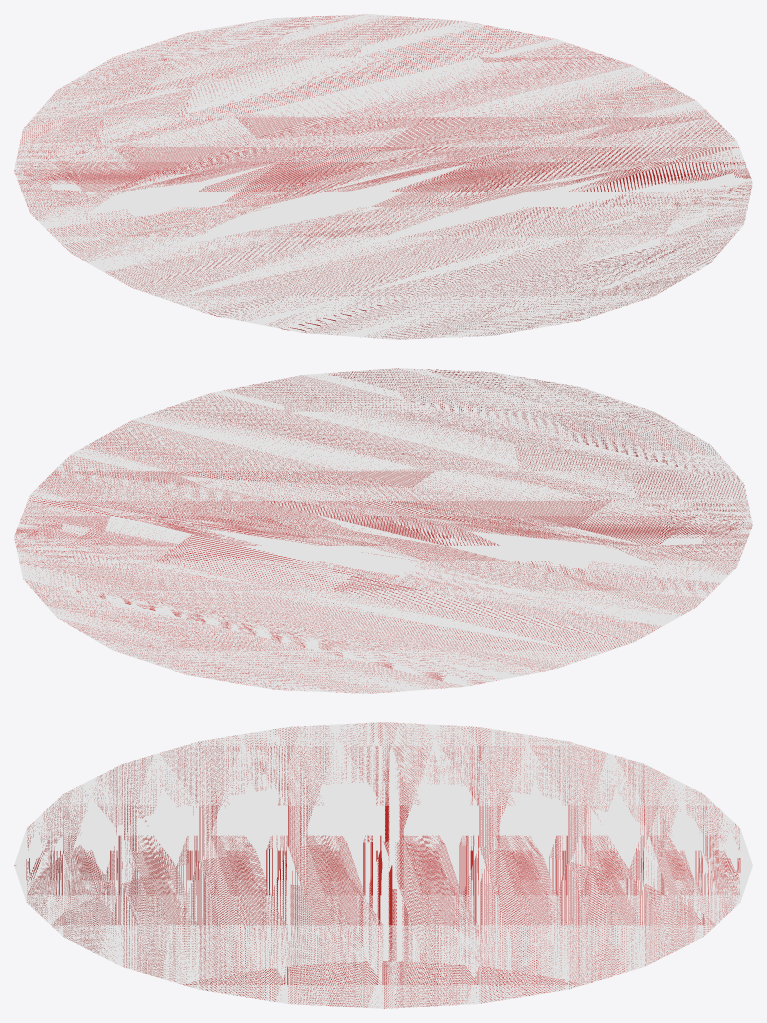
The model's file is original-184.obj.
3 renders of one model, top to bottom at view 1: azimuth 30°, elevation 25°; view 2: azimuth 150°, elevation 25°; view 3: azimuth 270°, elevation 25°, orthographic. The views are drawn at different scales.
Visible parts, largest first — view 1: #ID656; view 2: #ID656; view 3: #ID656.
Part boxes in pixels (bbox=[...]): #ID656: bbox=[14, 14, 752, 339]; #ID656: bbox=[14, 368, 752, 693]; #ID656: bbox=[14, 722, 752, 1008].
Size of the model in its own units: 0.0807 by 0 by 0.0879.
Materials: 2 (1 with a texture image).
